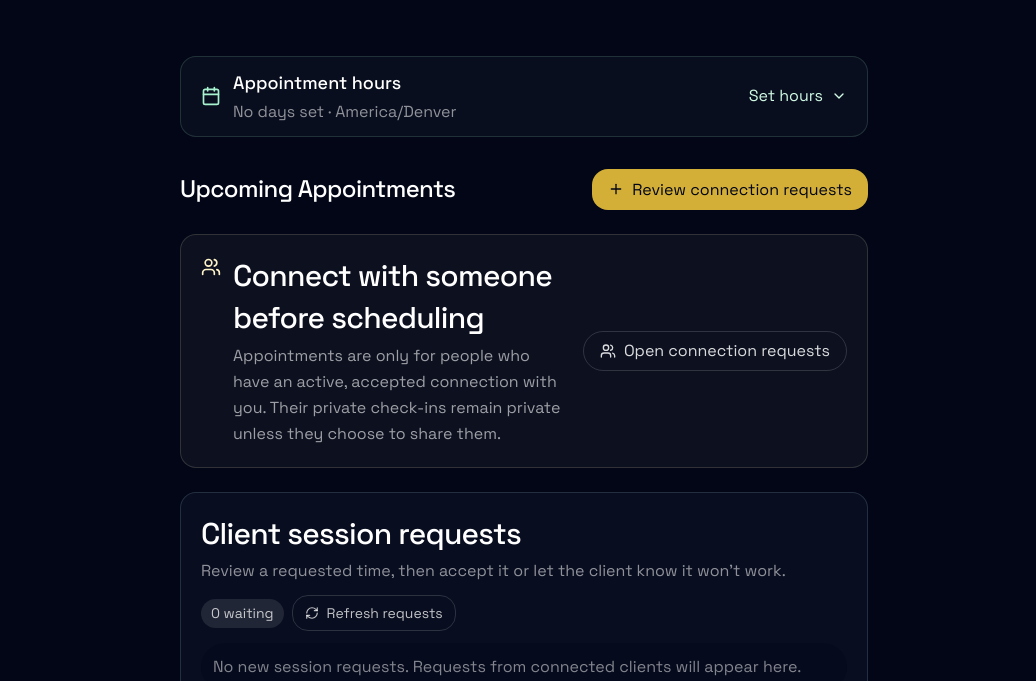
ProviderSchedulePage client requests › routes the no-client empty-state action to connection requests
This screenshot has width=1036, height=681.
Click the button "Open connection requests" at (715, 351), box [583,331,847,371]
(page scrolled)
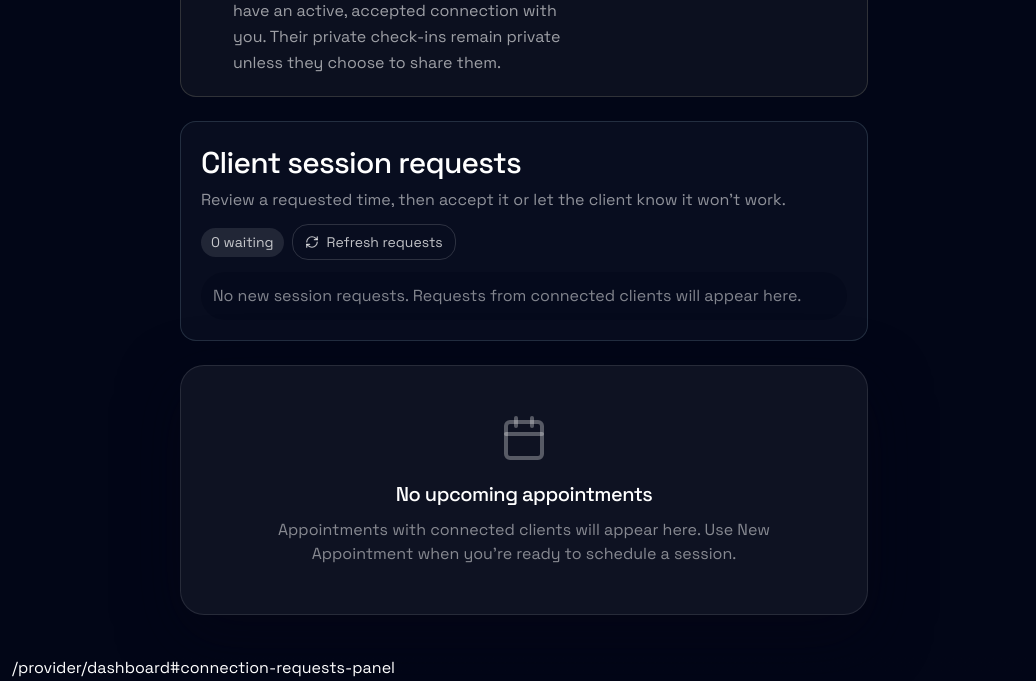
Expected: the text with test id "current-route" reads "/provider/dashboard#connection-requests-panel", [12,657,395,678]
